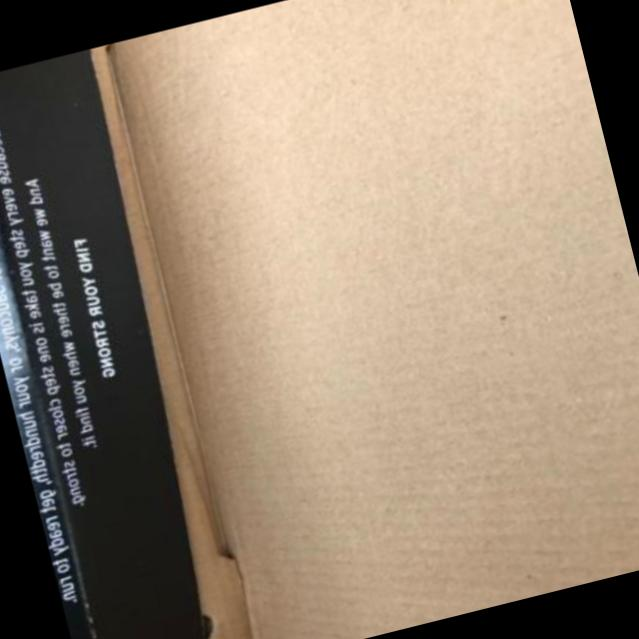cardboard paper: (88, 0, 639, 639)
